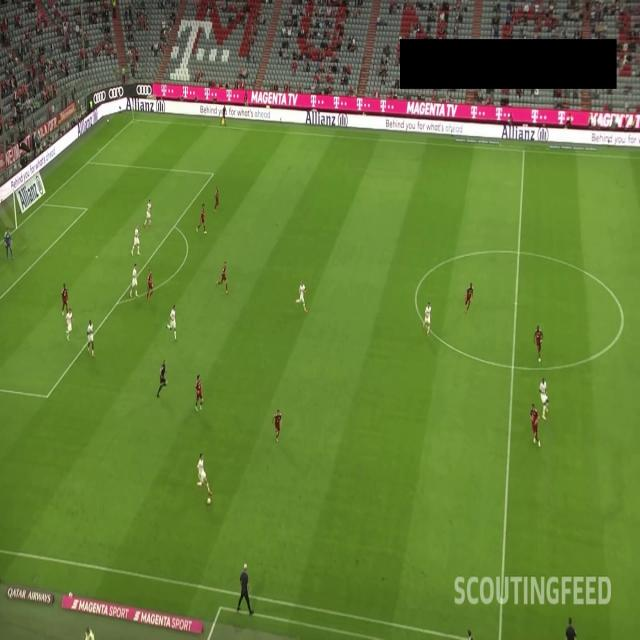ball: (205, 494, 214, 508)
player: (196, 449, 210, 493), (539, 377, 550, 424), (165, 302, 179, 338), (60, 278, 72, 319), (532, 322, 543, 363), (195, 374, 206, 413), (531, 404, 540, 451), (86, 319, 98, 351), (422, 301, 432, 338), (297, 281, 308, 313), (218, 258, 228, 292), (198, 203, 208, 236), (463, 282, 473, 315), (132, 222, 142, 254), (3, 230, 13, 257), (274, 407, 282, 440), (66, 308, 74, 339), (131, 262, 138, 294), (144, 195, 152, 221), (214, 185, 220, 210), (147, 269, 152, 298)
